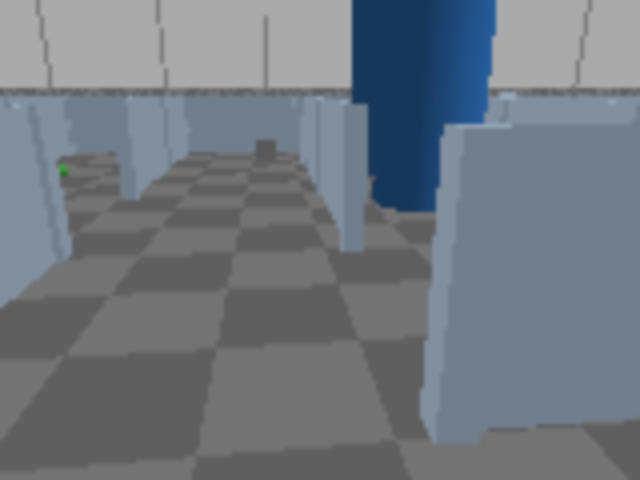obstacle: (254, 139, 276, 160)
